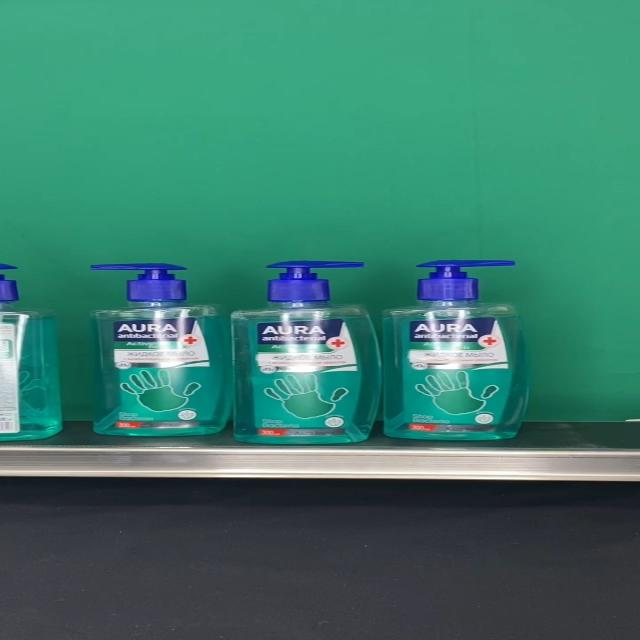Bottle: (230, 260, 382, 443), (382, 259, 530, 439), (87, 264, 235, 436)
Cap: (416, 259, 517, 301), (266, 260, 364, 302), (89, 263, 187, 301)
